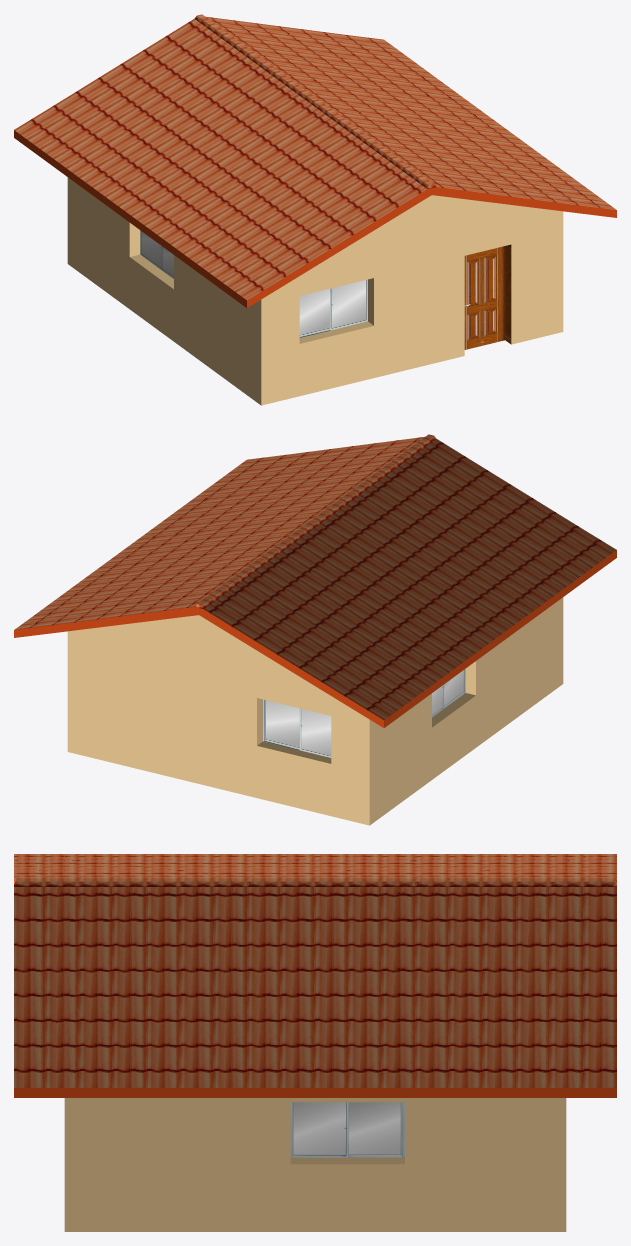
The model's file is Casa01.FBX.
3 renders of one model, top to bottom at view 1: azimuth 30°, elevation 25°; view 2: azimuth 150°, elevation 25°; view 3: azimuth 270°, elevation 25°, orthographic. The views are drawn at different scales.
Parts seen in each view (by area): view 1: casa01; view 2: casa01; view 3: casa01.
Part boxes in pixels (<box>): casa01: <box>14,14,616,405</box>; casa01: <box>14,434,616,825</box>; casa01: <box>14,854,616,1231</box>.
Size of the model in its own units: 1.64 by 0.8407 by 1.79.
5 materials, 4 textured.
